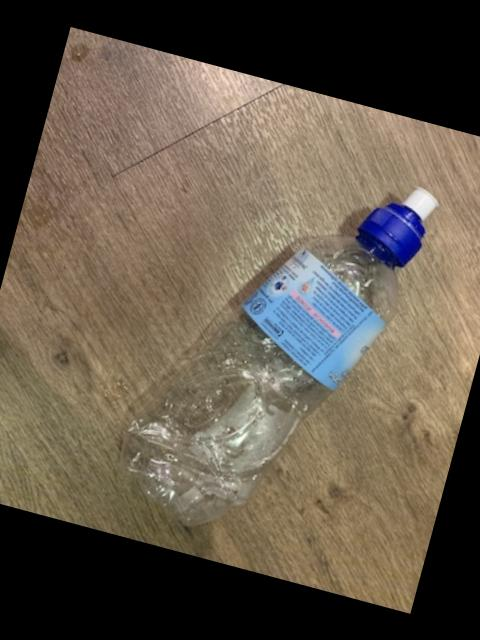plastic: (124, 190, 438, 527)
